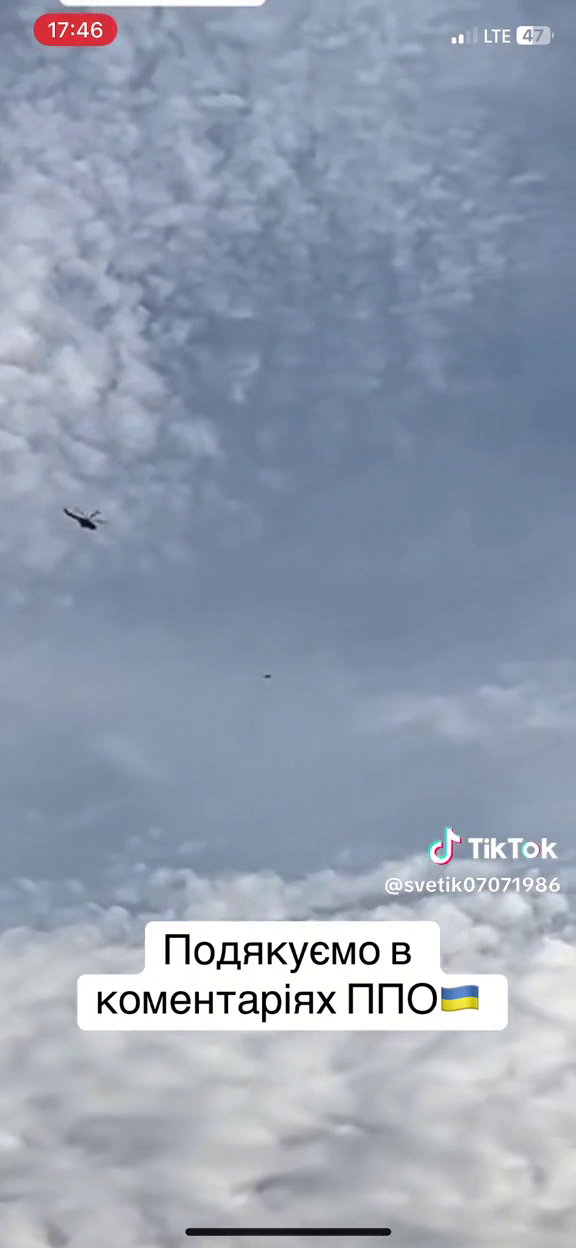shahed: (264, 673, 271, 679)
